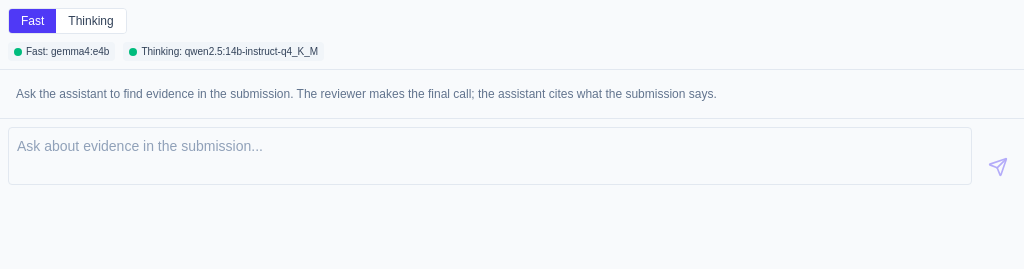
Test: AskAiTab › Indigenous-flagged citation renders the neutral 'Indigenous uses content' badge
In the text box with test id "ask-ai-input": (490, 156) top-left (8, 127), bottom-right (972, 185), type "traditional gardens near the site"
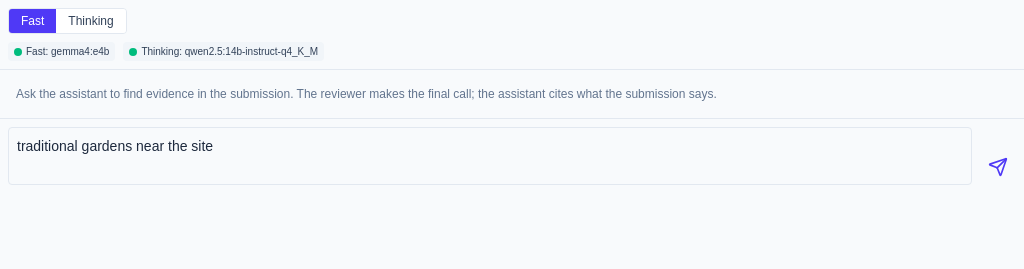
Click the button with test id "ask-ai-send-button": (998, 167) top-left (980, 149), bottom-right (1016, 185)
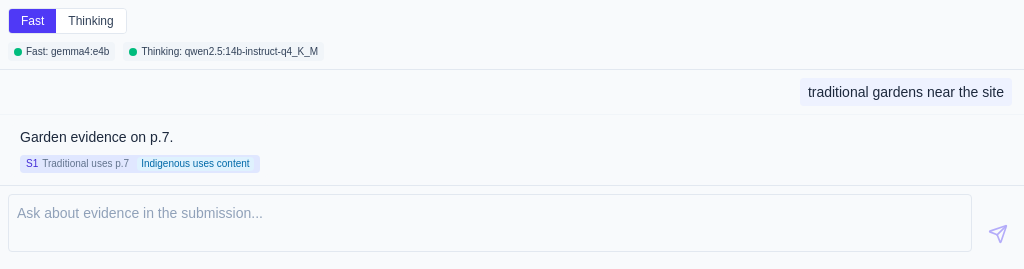
Expected: the text "Indigenous uses content" is shown, top-left (137, 157), bottom-right (254, 171)
Expected: the text with test id "citation-pill-indigenous-badge" reads "Indigenous uses content", top-left (141, 158), bottom-right (250, 169)
Expected: the list item with test id "ask-ai-message-assistant" shows "Garden evidence on p.7.", top-left (20, 129), bottom-right (173, 145)
